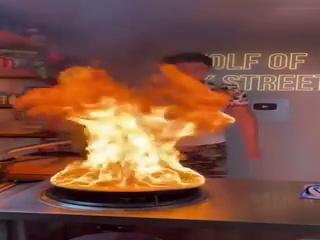Fire: (29, 54, 208, 195)
